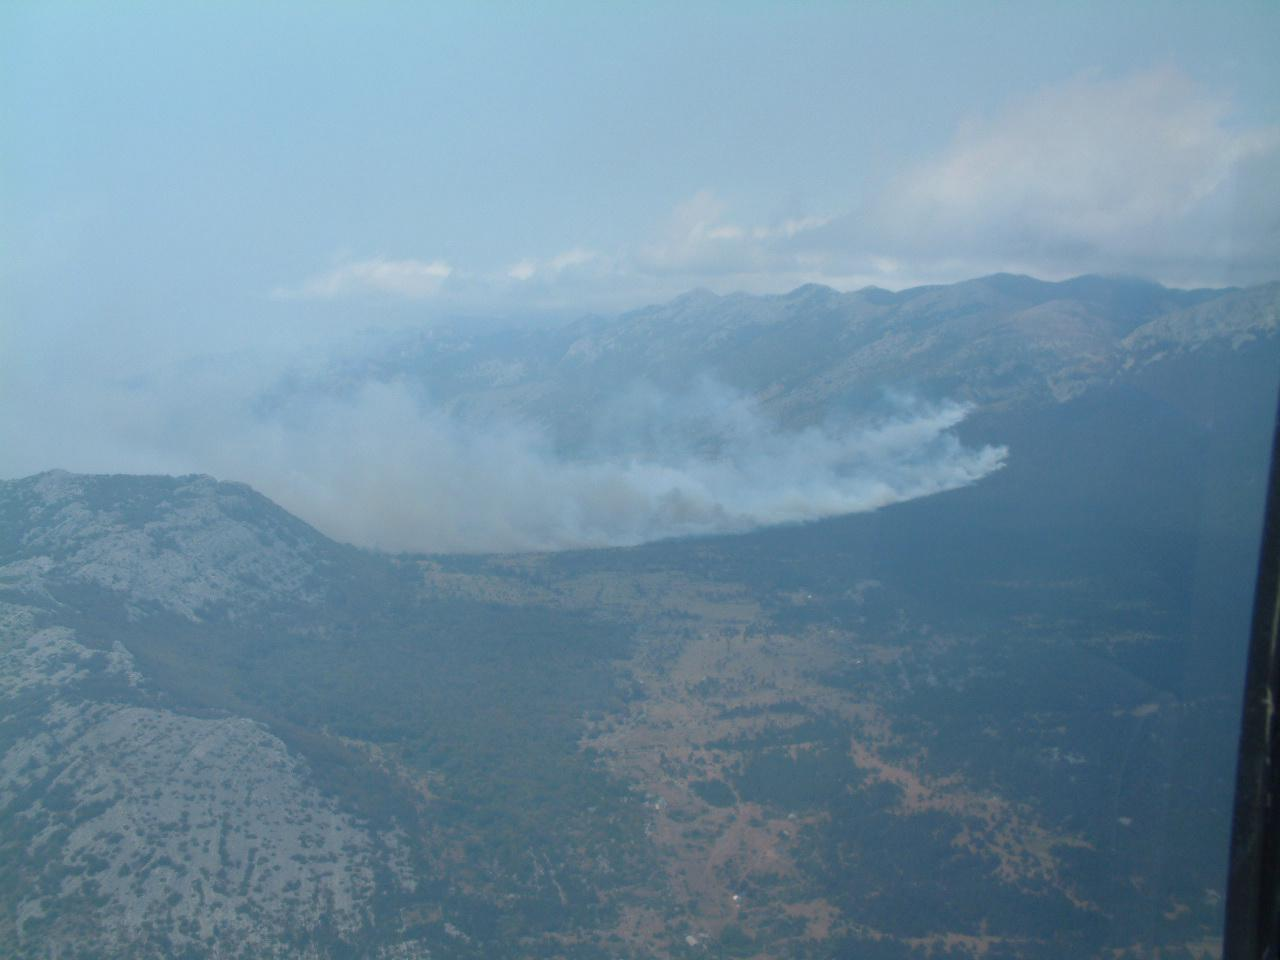Smoke: (250, 379, 1034, 541)
